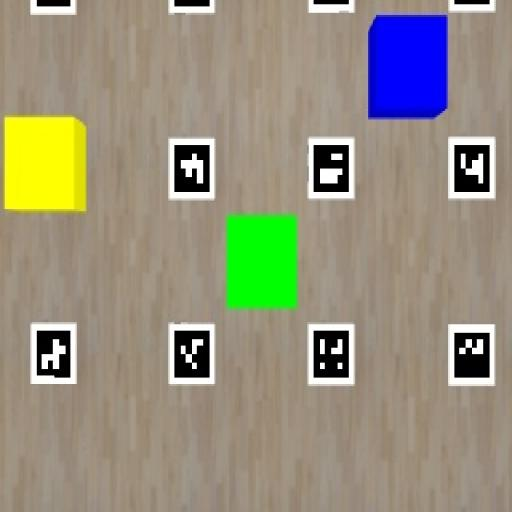car: (368, 13, 447, 119), (226, 214, 299, 309)
fire: (4, 116, 87, 213)
